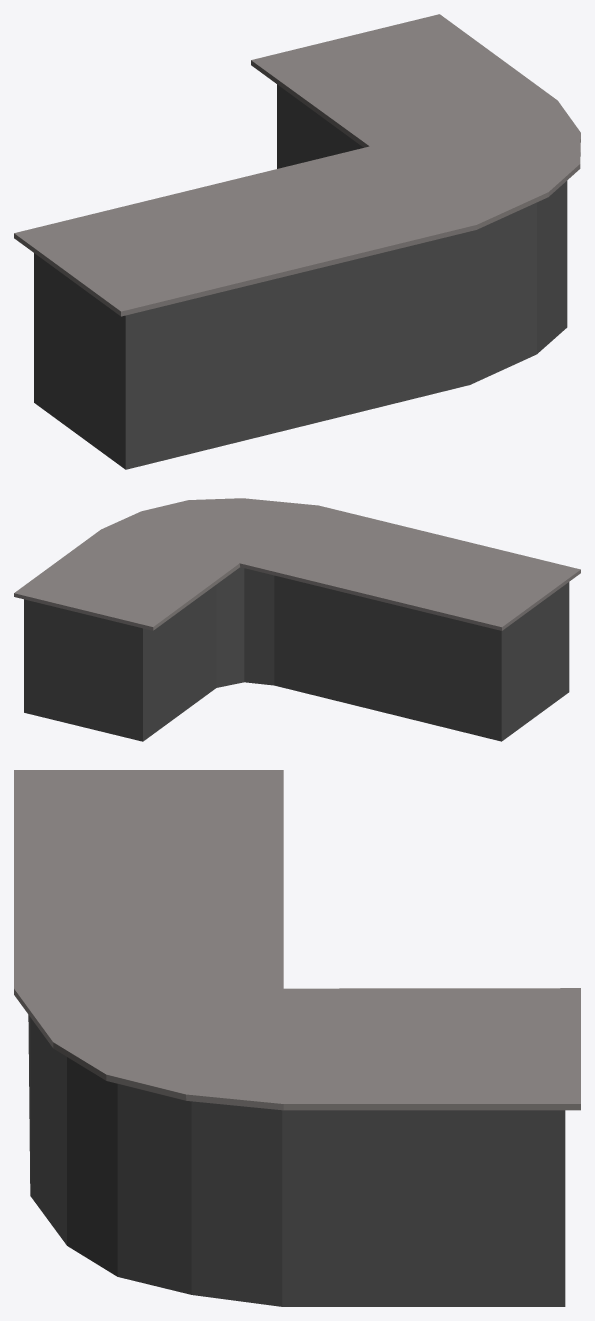
File: SM_Table_01.fbx
3 views of the same model, one above another, from view 1: azimuth 30°, elevation 25°; view 2: azimuth 150°, elevation 25°; view 3: azimuth 270°, elevation 25° (orthographic). The views are drawn at different scales.
Visible parts, largest first — view 1: SM_Table_01; view 2: SM_Table_01; view 3: SM_Table_01.
Boxes of the visible parts, left/top/right/bottom form: SM_Table_01: left=14, top=14, right=580, bottom=469; SM_Table_01: left=14, top=498, right=580, bottom=741; SM_Table_01: left=14, top=770, right=580, bottom=1306.
Bounding box in the file's own units: 318 × 92.04 × 228.
